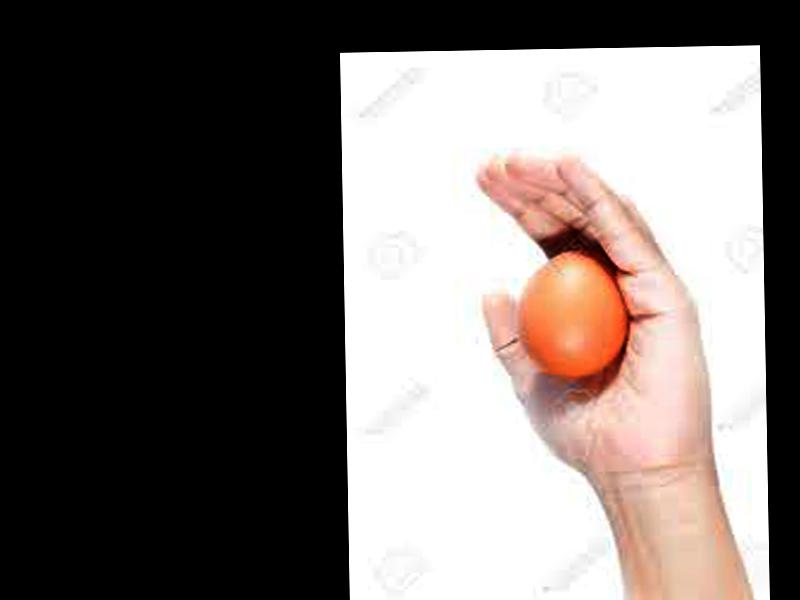Eggs: (518, 251, 626, 377)
